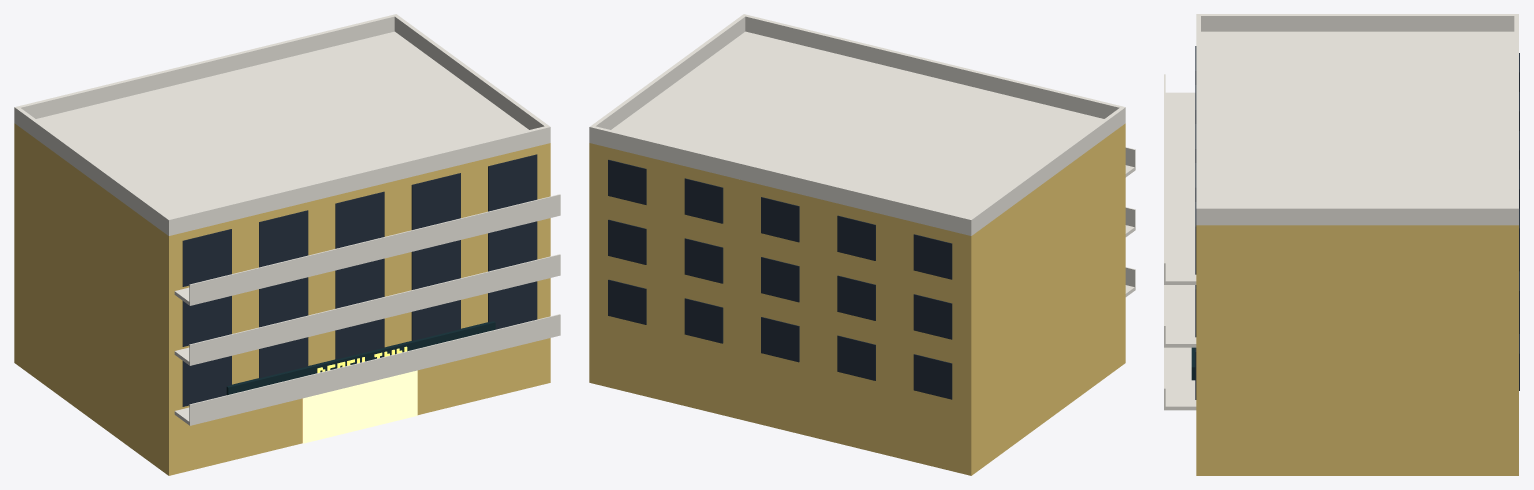
File: bld_bh_hotel.glb
3 views of the same model, side by side, from view 1: azimuth 30°, elevation 25°; view 2: azimuth 150°, elevation 25°; view 3: azimuth 270°, elevation 25° (orthographic). The views are drawn at different scales.
Visible parts, largest first — view 1: bld_bh_hotel; view 2: bld_bh_hotel; view 3: bld_bh_hotel.
Part boxes in pixels (bbox=[...]): bld_bh_hotel: bbox=[14, 14, 560, 475]; bld_bh_hotel: bbox=[589, 14, 1135, 475]; bld_bh_hotel: bbox=[1164, 14, 1519, 475].
Size of what is drawn, in the model's own units: 20 by 12.8 by 15.44.
